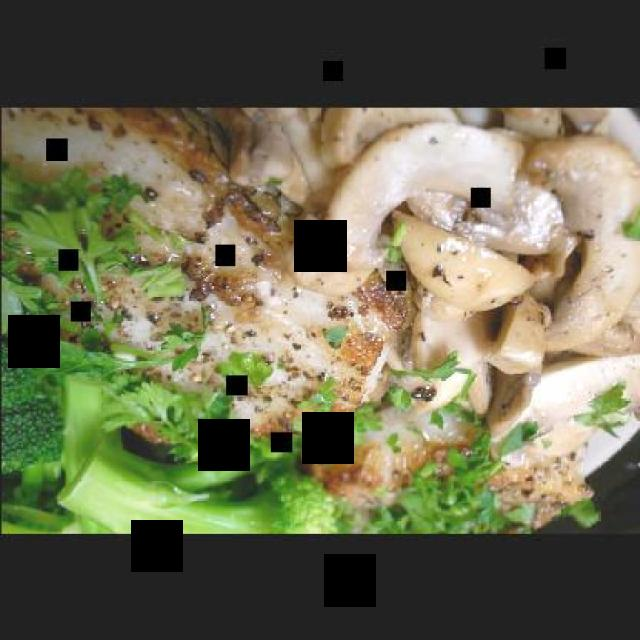unauthorized: (0, 106, 638, 532)
